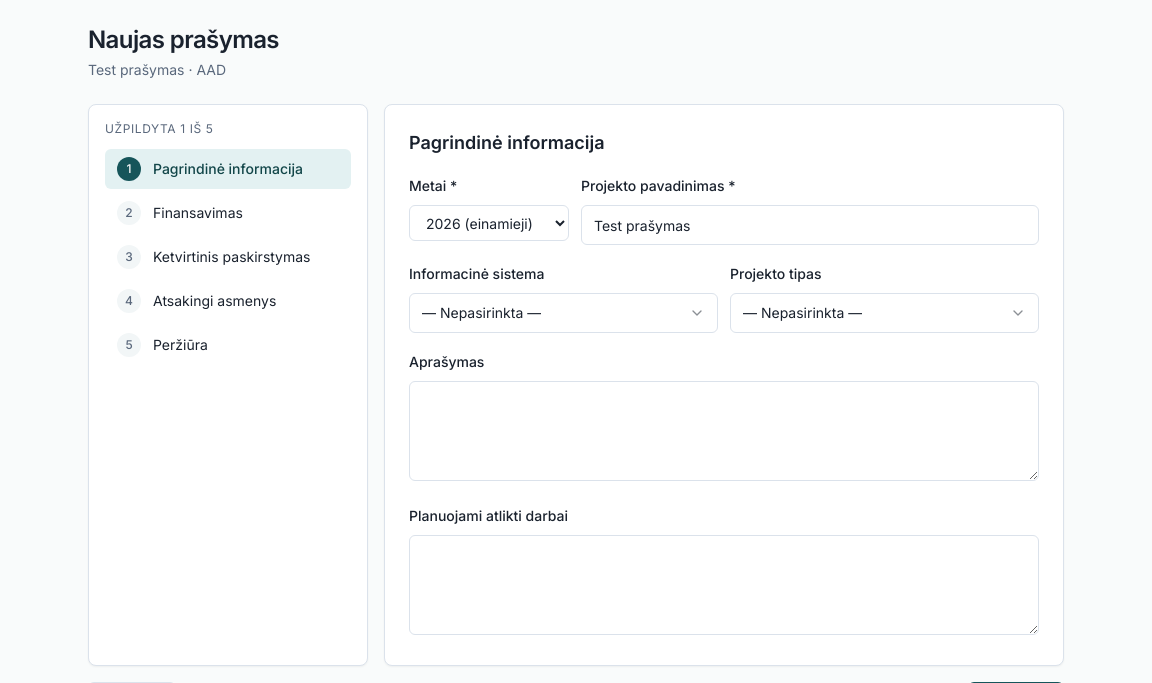
Test case: RequestWizard — UAT #42 žingsnių struktūra › PA-003: Finansavimo žingsnyje nėra finansavimo šaltinio laukų
This screenshot has width=1152, height=683.
Click the button "2 Finansavimas" at [228, 213], box [105,193,351,233]
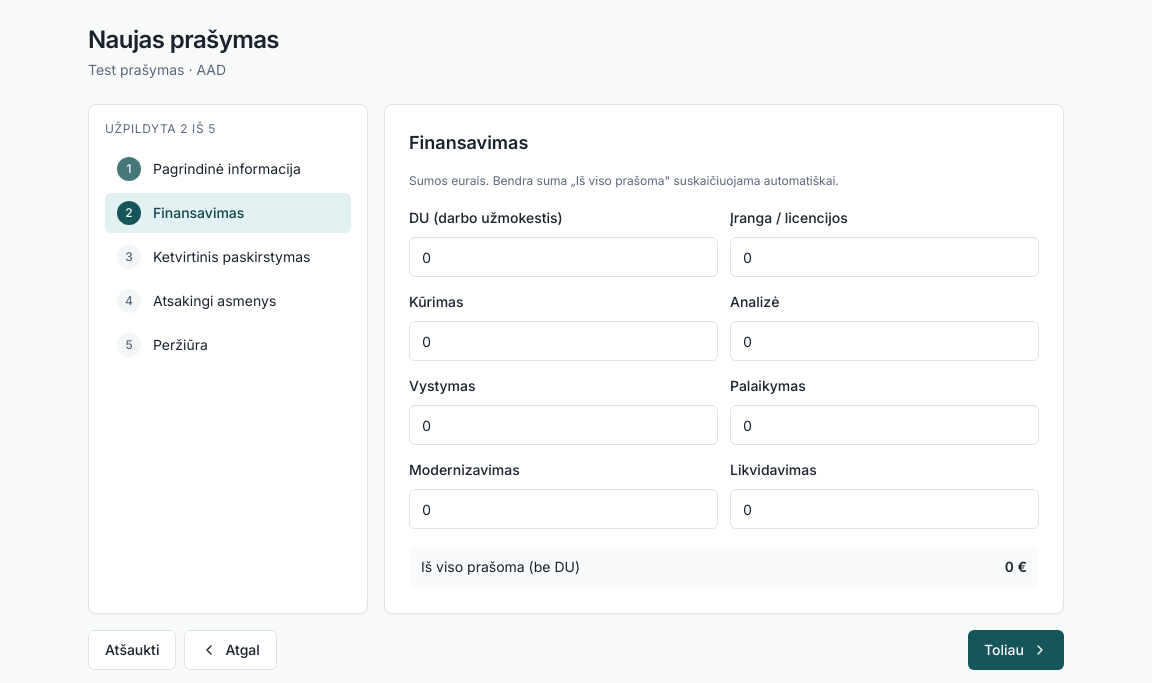
Check: the heading "Finansavimas" is shown, box [409,132,528,153]
Check: the number field labelled "Įranga / licencijos" is shown, box [730,237,1039,277]
